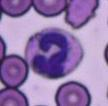N: (26, 26, 82, 78)
